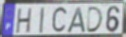6: (105, 5, 122, 34)
A: (66, 7, 88, 34)
C: (51, 5, 69, 35)
D: (86, 6, 105, 34)
H: (15, 7, 33, 35)
I: (39, 7, 46, 35)
